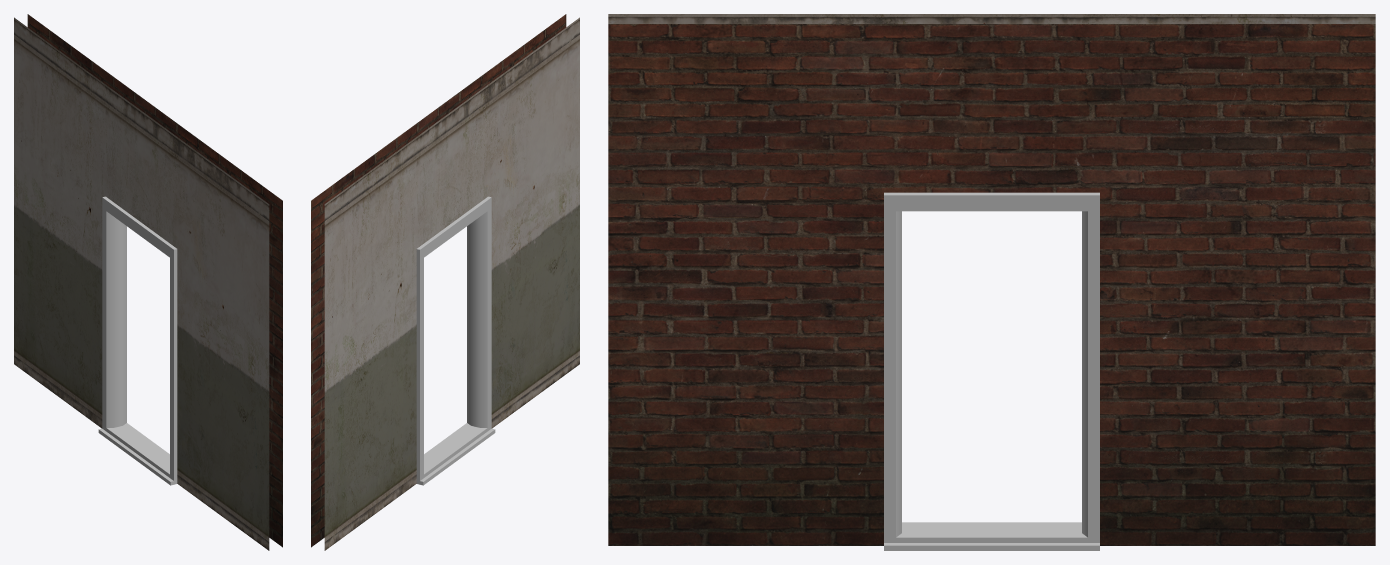
File: wall_doorsmall_tile_256x8x192.fbx
3 views of the same model, side by side, from view 1: azimuth 30°, elevation 25°; view 2: azimuth 150°, elevation 25°; view 3: azimuth 270°, elevation 25° (orthographic). The views are drawn at different scales.
Visible parts, largest first — view 1: wall_doorsmall_tile_256x16x192; view 2: wall_doorsmall_tile_256x16x192; view 3: wall_doorsmall_tile_256x16x192.
Boxes of the visible parts, left/top/right/bottom form: wall_doorsmall_tile_256x16x192: left=14, top=14, right=282, bottom=550; wall_doorsmall_tile_256x16x192: left=311, top=14, right=579, bottom=550; wall_doorsmall_tile_256x16x192: left=608, top=14, right=1375, bottom=550.
Size of the model in its own units: 16 by 192 by 256.
